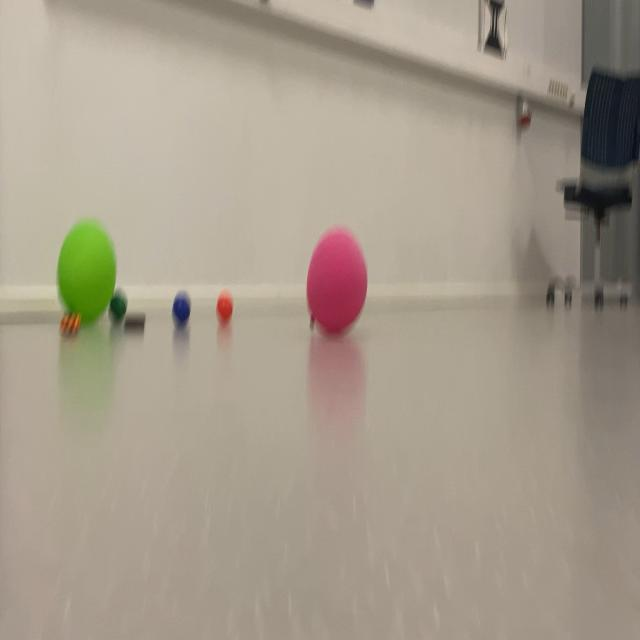7: (210, 283, 240, 332)
green ball: (169, 284, 201, 341)
red ball: (108, 282, 133, 328)
